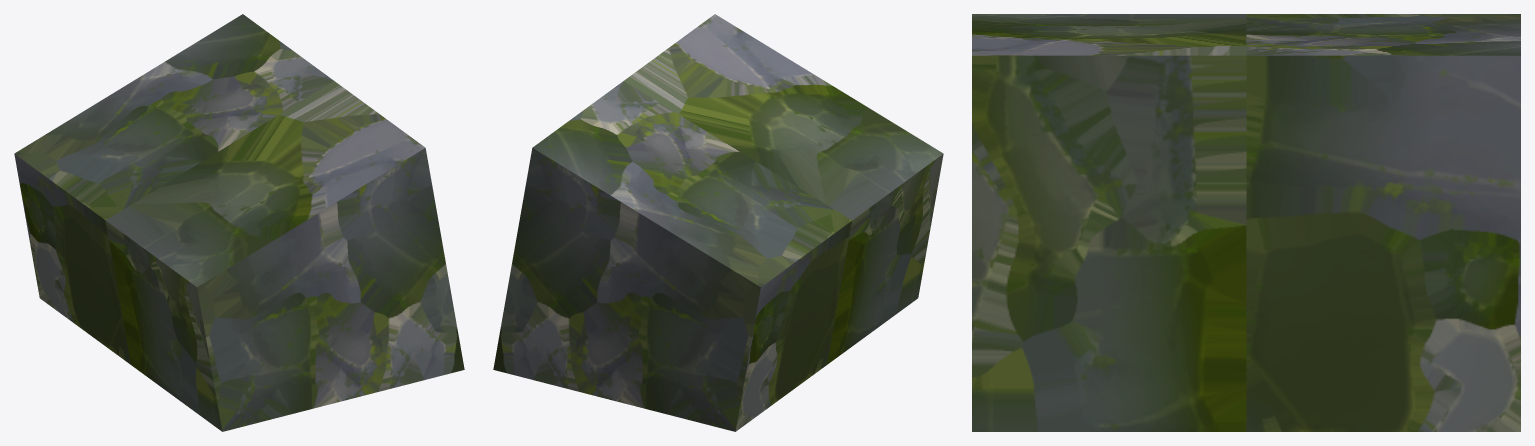
Rendered from Arch_Voussoir_01.glb.
3 renders of one model, left to right at view 1: azimuth 30°, elevation 25°; view 2: azimuth 150°, elevation 25°; view 3: azimuth 270°, elevation 25°, orthographic. The views are drawn at different scales.
Visible parts, largest first — view 1: Arch_Voussoir_01__Arch_Voussoir_01; view 2: Arch_Voussoir_01__Arch_Voussoir_01; view 3: Arch_Voussoir_01__Arch_Voussoir_01.
Boxes of the visible parts, left/top/right/bottom form: Arch_Voussoir_01__Arch_Voussoir_01: left=14, top=14, right=464, bottom=431; Arch_Voussoir_01__Arch_Voussoir_01: left=493, top=14, right=943, bottom=431; Arch_Voussoir_01__Arch_Voussoir_01: left=972, top=14, right=1520, bottom=431.
Bounding box in the file's own units: 0.8286 × 0.6942 × 0.98.
Materials: 1 (1 with a texture image).
